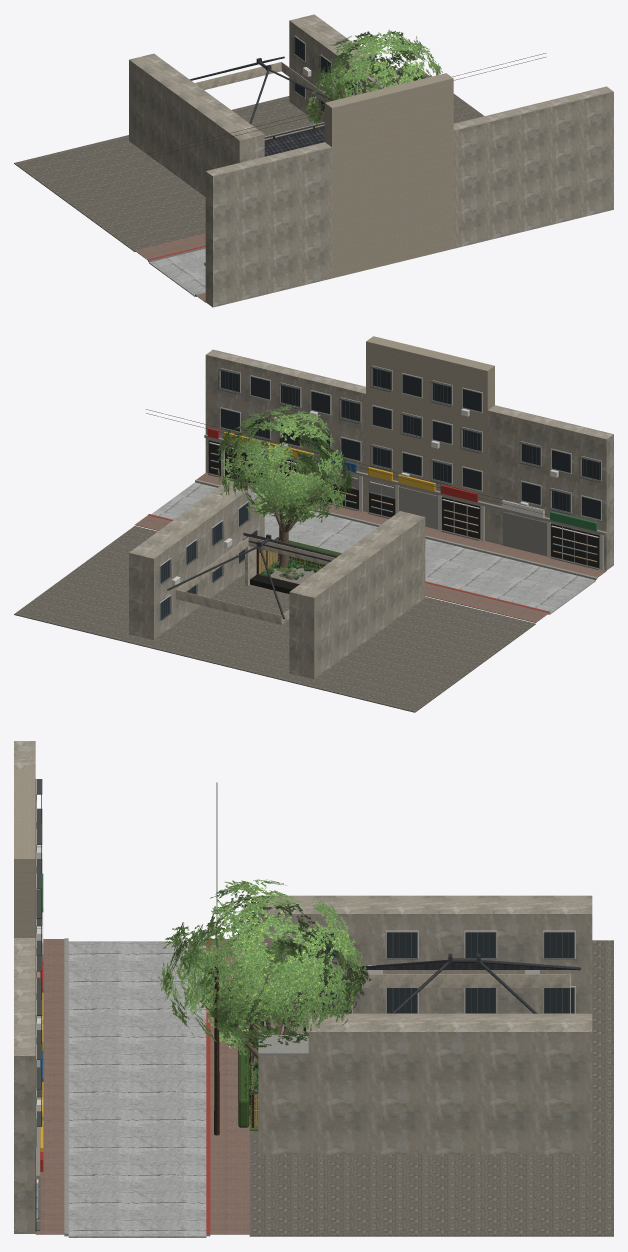
The model's file is wz_teahouse_yard.glb.
The picture shows the model from 3 angles, top to bottom: view 1: azimuth 30°, elevation 25°; view 2: azimuth 150°, elevation 25°; view 3: azimuth 270°, elevation 25°; orthographic projection. The views are drawn at different scales.
Visible parts, largest first — view 1: wzy_apt, wzy_apt2, wzy_slab, camphor_a_leaf, wzy_road, wzy_plaster_yard_roof, wzy_kawara_yard_eave, wzy_pave, wzy_vc_parts, wzy_ridge_yard_roof, wzy_wood; view 2: wzy_apt, wzy_slab, wzy_vc_parts, wzy_apt2, camphor_a_leaf, wzy_road, wzy_pave, wzy_plaster_yard_roof, wzy_curb, wzy_wood, wzy_ridge_yard_roof, camphor_a_bark; view 3: wzy_apt, wzy_road, wzy_slab, camphor_a_leaf, wzy_pave, wzy_vc_parts, wzy_apt2, wzy_plaster_yard_roof, wzy_curb, wzy_ridge_yard_roof, wzy_wood, wzy_curb_red (+3 smaller).
Boxes of the visible parts, x1,y1,x2,y2 form: wzy_apt: [129, 14, 613, 307]; wzy_apt2: [324, 73, 453, 278]; wzy_slab: [14, 65, 484, 251]; camphor_a_leaf: [304, 30, 442, 125]; wzy_road: [149, 248, 205, 296]; wzy_plaster_yard_roof: [195, 62, 331, 139]; wzy_kawara_yard_eave: [264, 127, 324, 156]; wzy_pave: [134, 233, 205, 302]; wzy_vc_parts: [204, 35, 357, 265]; wzy_ridge_yard_roof: [190, 56, 333, 138]; wzy_wood: [146, 53, 546, 158]; wzy_apt: [129, 349, 613, 679]; wzy_slab: [14, 526, 535, 712]; wzy_vc_parts: [159, 365, 606, 621]; wzy_apt2: [366, 336, 494, 541]; camphor_a_leaf: [217, 405, 353, 525]; wzy_road: [151, 482, 595, 614]; wzy_pave: [135, 473, 606, 622]; wzy_plaster_yard_roof: [176, 537, 335, 624]; wzy_curb: [148, 479, 597, 614]; wzy_wood: [146, 409, 546, 584]; wzy_ridge_yard_roof: [167, 533, 337, 618]; camphor_a_bark: [246, 463, 332, 567]; wzy_apt: [14, 741, 592, 1233]; wzy_road: [68, 941, 206, 1237]; wzy_slab: [249, 940, 613, 1236]; camphor_a_leaf: [158, 879, 371, 1055]; wzy_pave: [35, 939, 249, 1234]; wzy_vc_parts: [35, 778, 575, 1231]; wzy_apt2: [14, 769, 35, 937]; wzy_plaster_yard_roof: [351, 974, 570, 1013]; wzy_curb: [64, 938, 308, 1236]; wzy_ridge_yard_roof: [347, 953, 581, 1013]; wzy_wood: [214, 782, 285, 1135]; wzy_curb_red: [206, 940, 210, 1233].
Bounding box in the file's own units: 32 × 13.2 × 27.5.
Materials: 38 (36 with a texture image).
